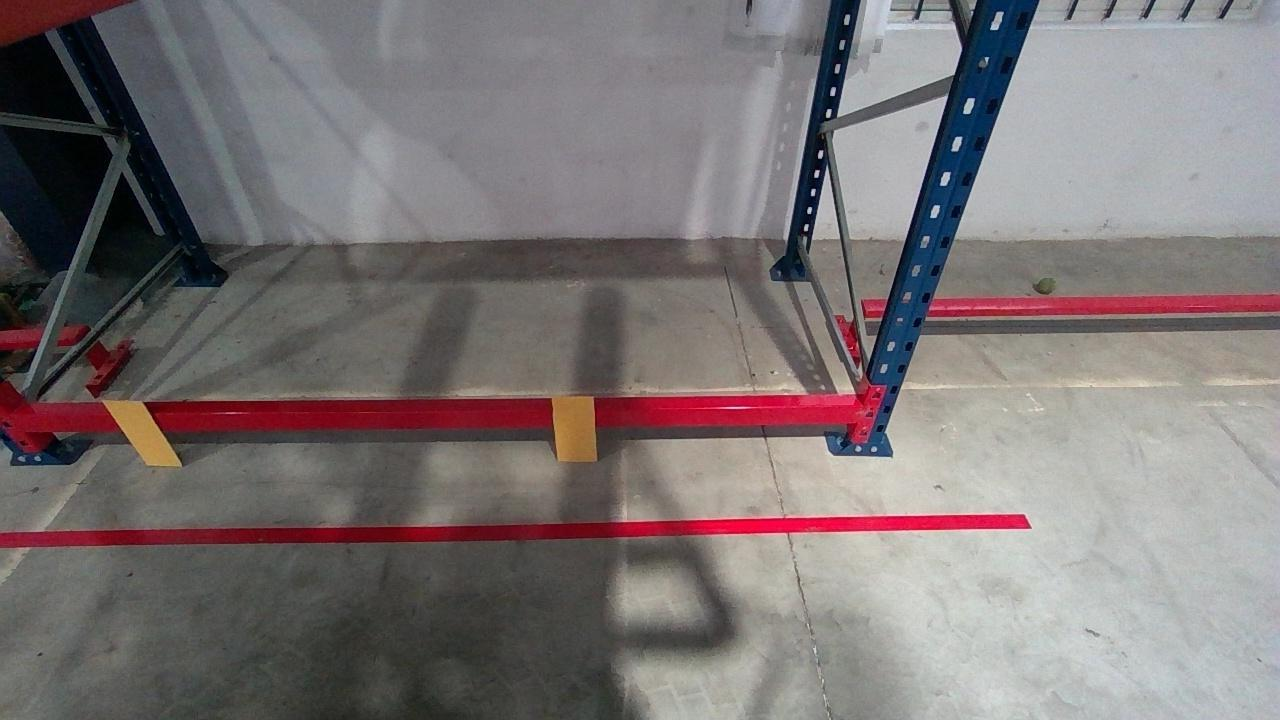h_rack: (2, 405, 864, 432)
orange_strip: (99, 402, 186, 466), (549, 396, 598, 461)
red_line: (2, 514, 1031, 545)
